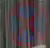No Stopping: (2, 3, 49, 44)
